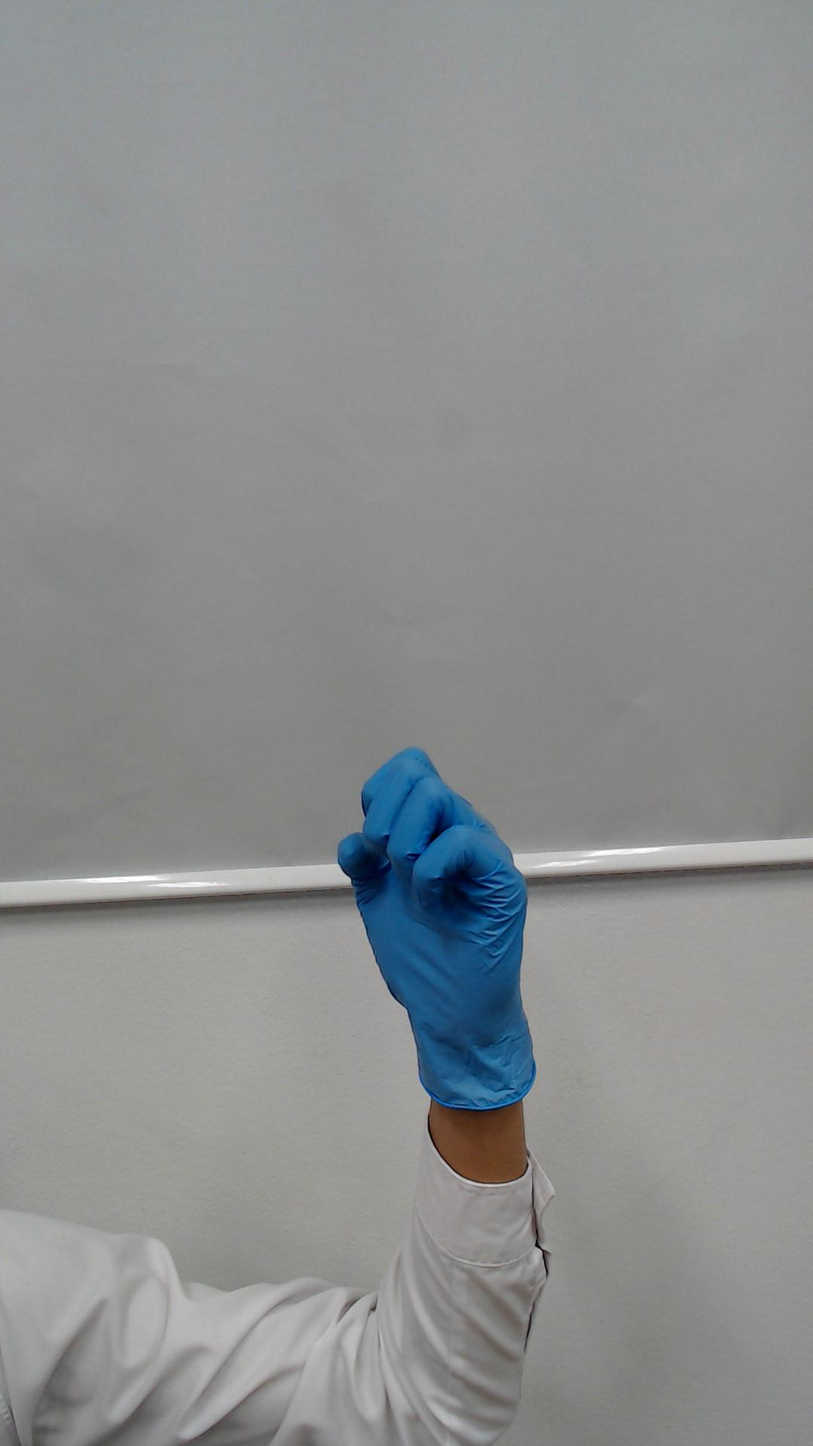gloves: (337, 718, 546, 1031)
